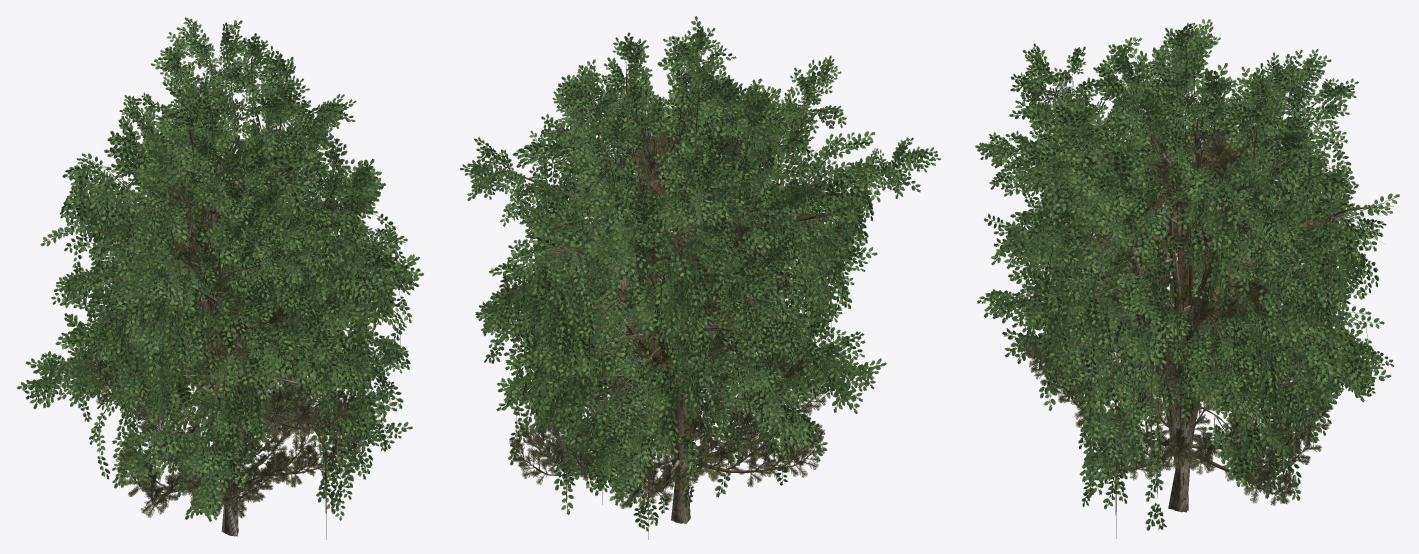
File: trees.glb
3 renders of one model, left to right at view 1: azimuth 30°, elevation 25°; view 2: azimuth 150°, elevation 25°; view 3: azimuth 270°, elevation 25°, orthographic. The views are drawn at different scales.
Parts seen in each view (by area): view 1: willow__leaves, maple__leaves, birch__leaves, pine__leaves, willow__trunk, birch__trunk, pine__trunk, maple__trunk; view 2: willow__leaves, maple__leaves, birch__leaves, pine__leaves, willow__trunk, birch__trunk, pine__trunk, maple__trunk; view 3: willow__leaves, maple__leaves, birch__leaves, pine__leaves, willow__trunk, birch__trunk, pine__trunk, maple__trunk.
Boxes of the visible parts, x1,y1,x2,y2 form: willow__leaves: [40, 99, 418, 520]; maple__leaves: [17, 90, 423, 521]; birch__leaves: [51, 17, 408, 463]; pine__leaves: [69, 145, 362, 518]; willow__trunk: [68, 124, 403, 539]; birch__trunk: [68, 43, 395, 536]; pine__trunk: [94, 176, 347, 533]; maple__trunk: [41, 118, 394, 490]; willow__leaves: [484, 66, 880, 531]; maple__leaves: [475, 74, 886, 503]; birch__leaves: [460, 16, 940, 492]; pine__leaves: [509, 129, 833, 508]; willow__trunk: [499, 99, 867, 539]; birch__trunk: [484, 36, 911, 523]; pine__trunk: [520, 156, 821, 523]; maple__trunk: [517, 93, 856, 476]; willow__leaves: [991, 47, 1399, 530]; maple__leaves: [977, 63, 1391, 492]; birch__leaves: [975, 19, 1393, 429]; pine__leaves: [1025, 119, 1333, 505]; willow__trunk: [1011, 100, 1393, 538]; birch__trunk: [1001, 46, 1378, 512]; pine__trunk: [1035, 136, 1316, 512]; maple__trunk: [1004, 97, 1353, 457].
Size of the model in its own units: 14.13 by 18.34 by 14.65.
Materials: 5 (5 with a texture image).
